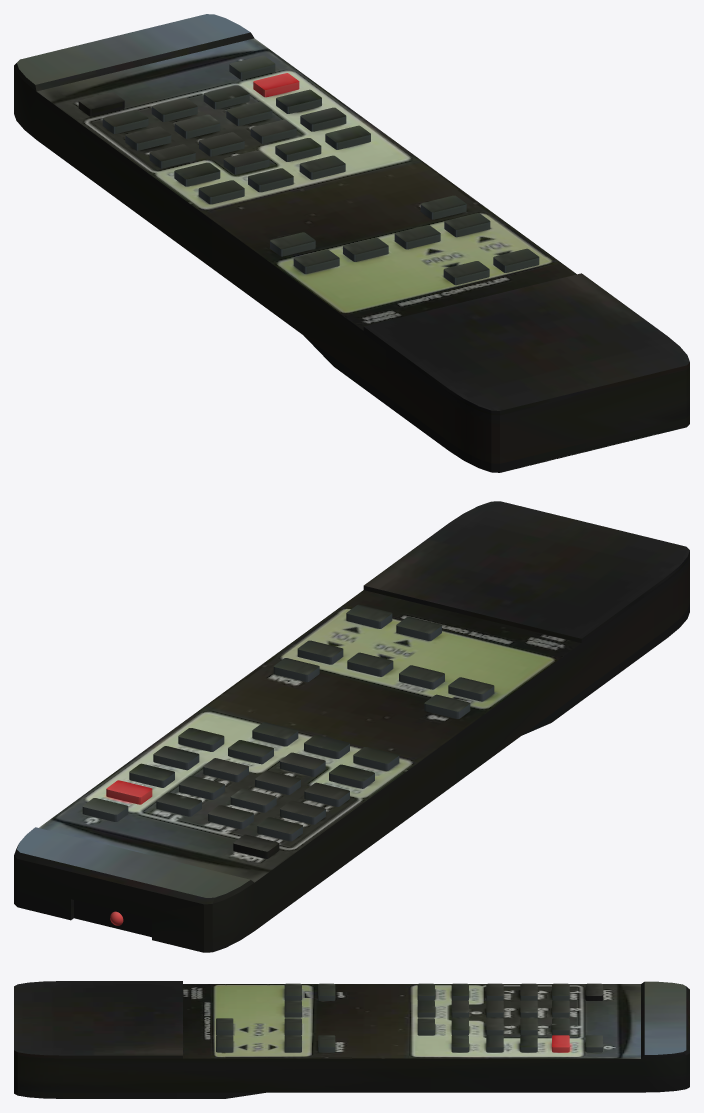
File: Remote3D.fbx
3 renders of one model, top to bottom at view 1: azimuth 30°, elevation 25°; view 2: azimuth 150°, elevation 25°; view 3: azimuth 270°, elevation 25°, orthographic. The views are drawn at different scales.
Parts seen in each view (by area): view 1: Remote; view 2: Remote; view 3: Remote.
Part boxes in pixels (x1=…): Remote: x1=14, y1=14, x2=689, y2=472; Remote: x1=14, y1=501, x2=689, y2=952; Remote: x1=14, y1=981, x2=689, y2=1098.
Bounding box in the file's own units: 539 × 153 × 2065.
